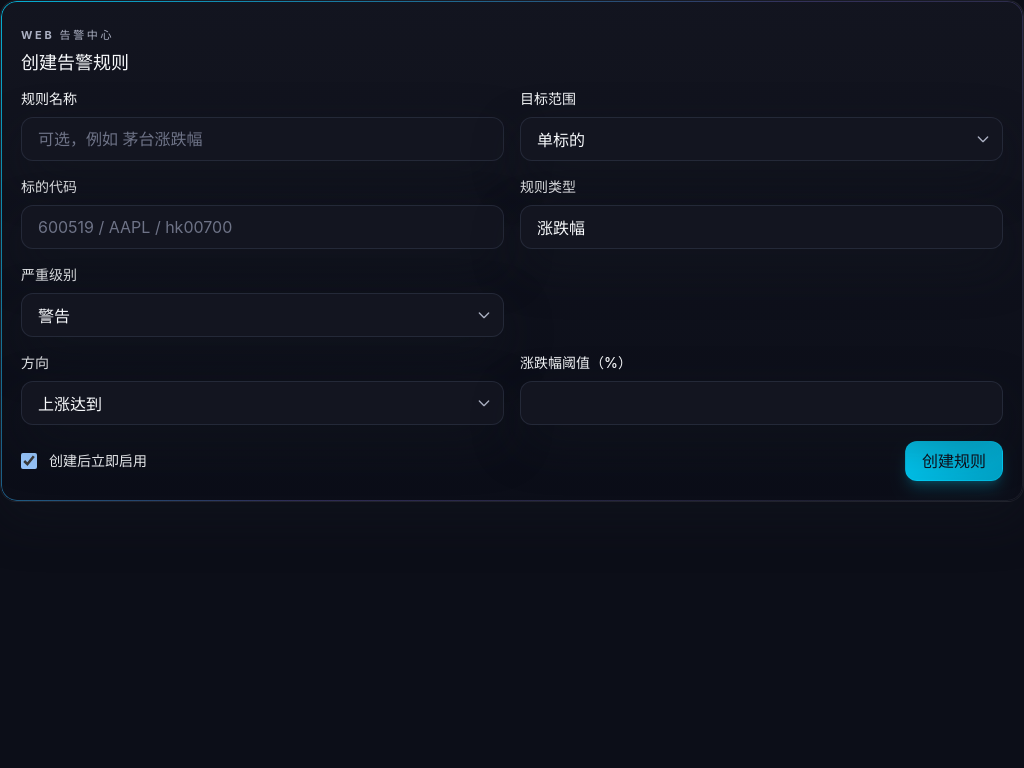
Test: AlertRuleForm › rejects invalid percentage 0
Type "600519" into the field labelled "标的代码" at (262, 227), box x1=21 y1=205 x2=504 y2=249
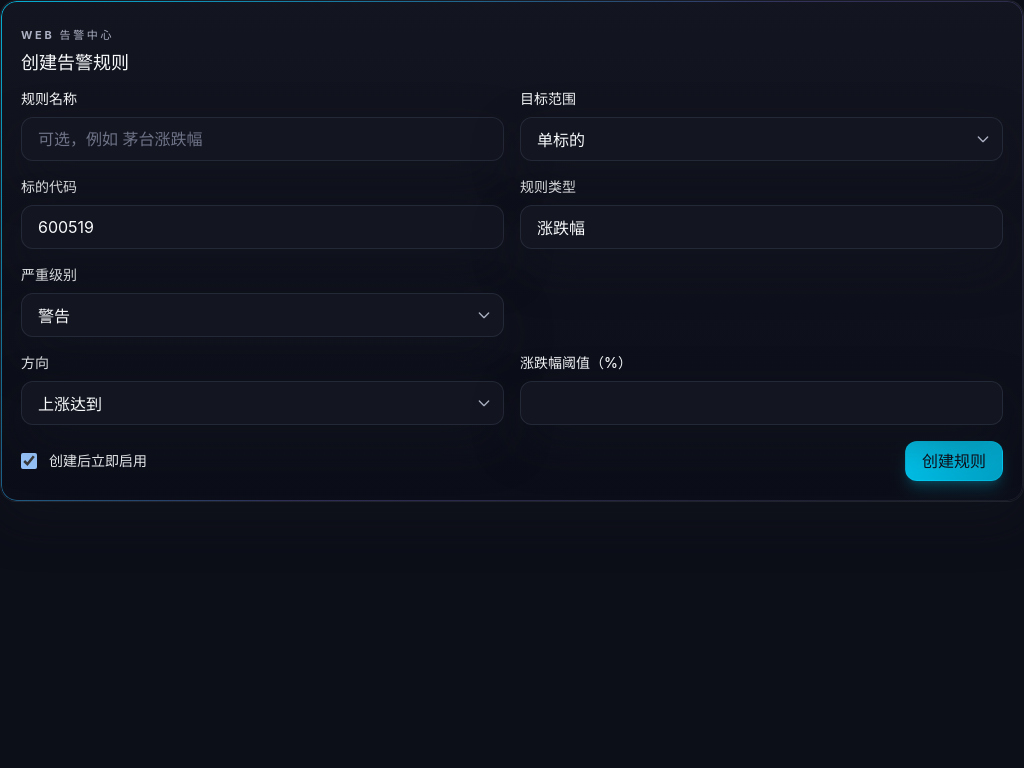
Type "0" into the number field labelled "涨跌幅阈值（%）" at (762, 403), box x1=520 y1=381 x2=1003 y2=425
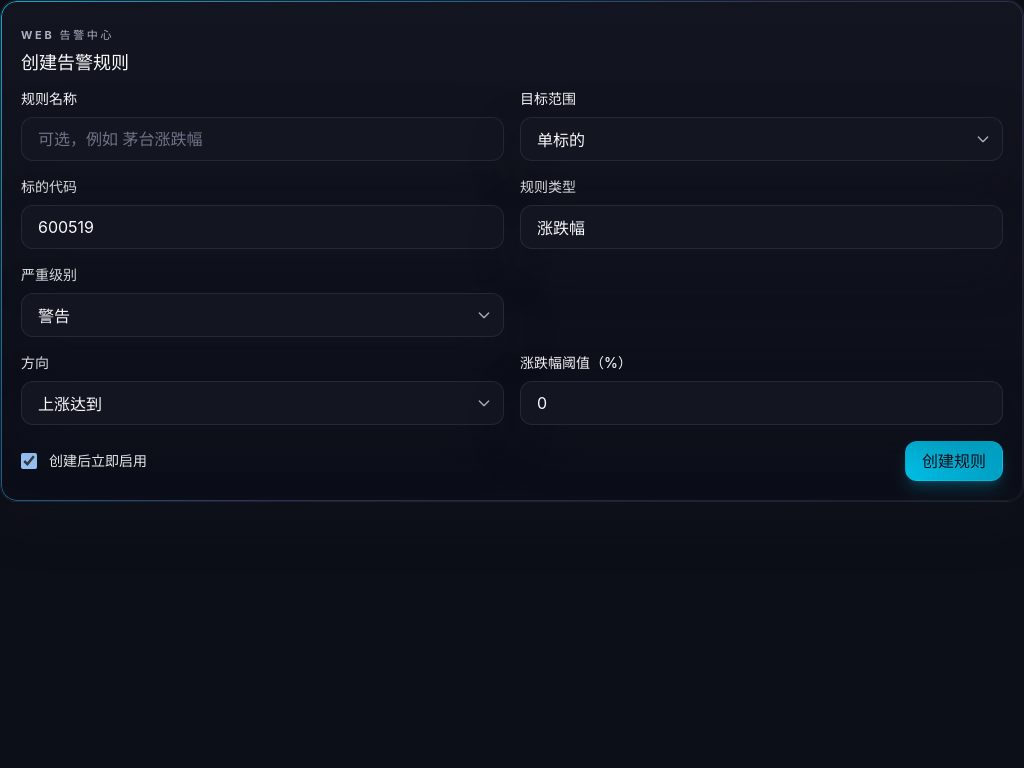
Click the button "创建规则" at (954, 461), box x1=905 y1=441 x2=1003 y2=481
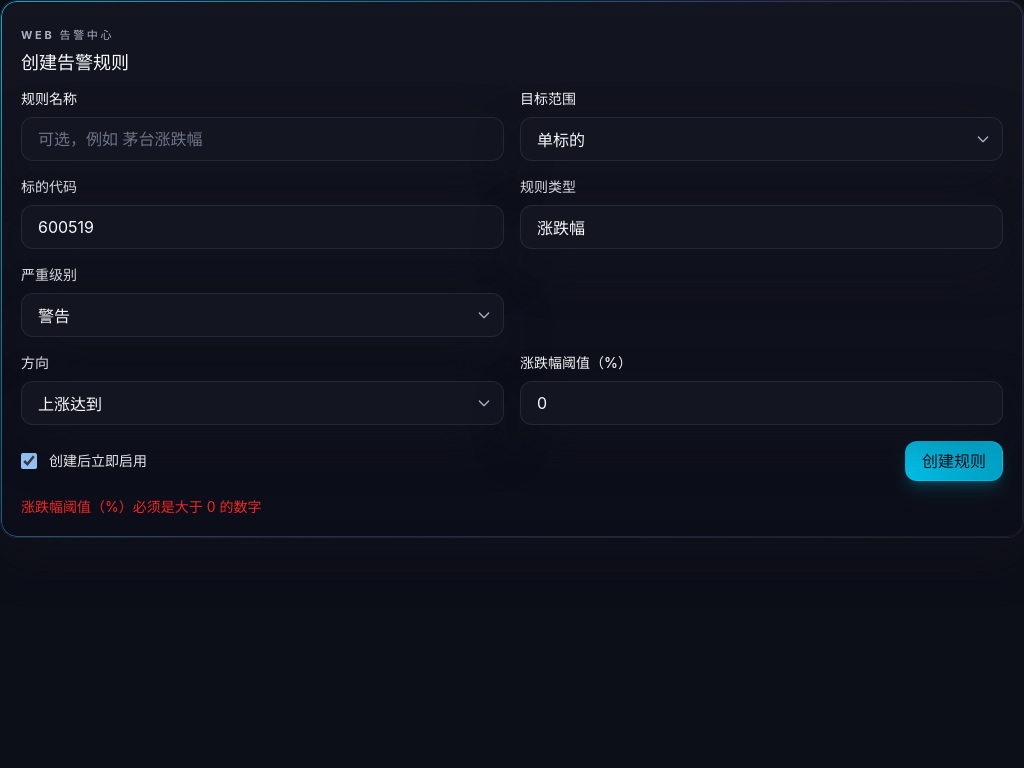
Expected: the message reads "涨跌幅阈值（%）必须是大于 0 的数字", x1=21 y1=498 x2=262 y2=515
